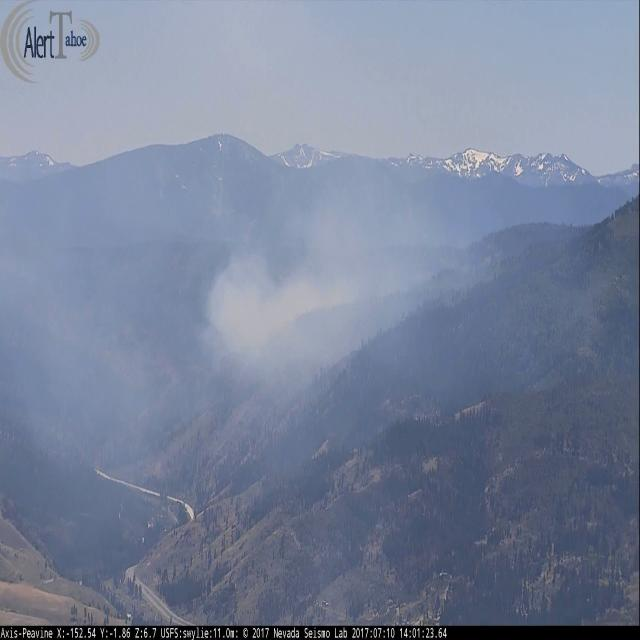smoke: (206, 221, 363, 386)
